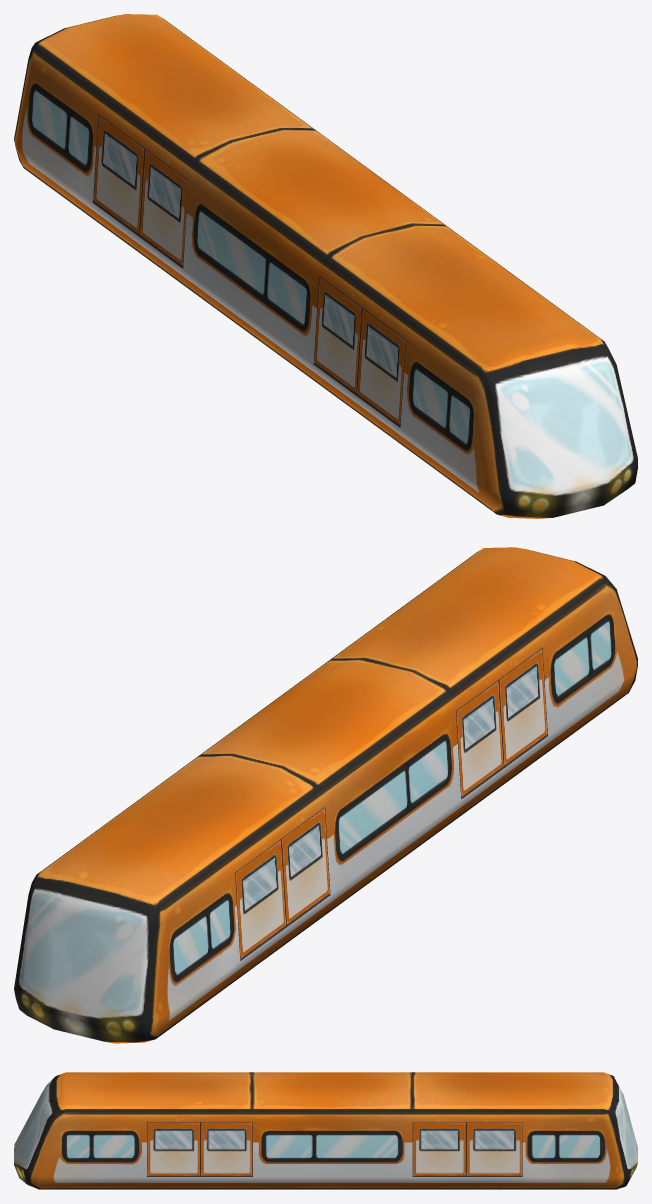
The model's file is ram_metro.fbx.
3 renders of one model, top to bottom at view 1: azimuth 30°, elevation 25°; view 2: azimuth 150°, elevation 25°; view 3: azimuth 270°, elevation 25°, orthographic. The views are drawn at different scales.
Visible parts, largest first — view 1: ram_metro, porte_01, porte_07, porte_03, porte_09; view 2: ram_metro, porte_01, porte_03, porte_07, porte_09; view 3: ram_metro, porte_02, porte_04, porte_08, porte_06.
Boxes of the visible parts, x1=… form: ram_metro: x1=14, y1=14, x2=637, y2=518; porte_01: x1=93, y1=114, x2=144, y2=236; porte_07: x1=356, y1=307, x2=405, y2=427; porte_03: x1=139, y1=148, x2=188, y2=268; porte_09: x1=313, y1=276, x2=361, y2=395; ram_metro: x1=14, y1=547, x2=637, y2=1043; porte_01: x1=235, y1=839, x2=286, y2=960; porte_03: x1=281, y1=807, x2=330, y2=926; porte_07: x1=498, y1=648, x2=547, y2=767; porte_09: x1=456, y1=680, x2=503, y2=799; ram_metro: x1=14, y1=1072, x2=637, y2=1189; porte_02: x1=466, y1=1122, x2=522, y2=1176; porte_04: x1=412, y1=1122, x2=466, y2=1176; porte_08: x1=147, y1=1122, x2=200, y2=1176; porte_06: x1=200, y1=1122, x2=252, y2=1176.
Bounding box in the file's own units: 195 × 194 × 1165.
